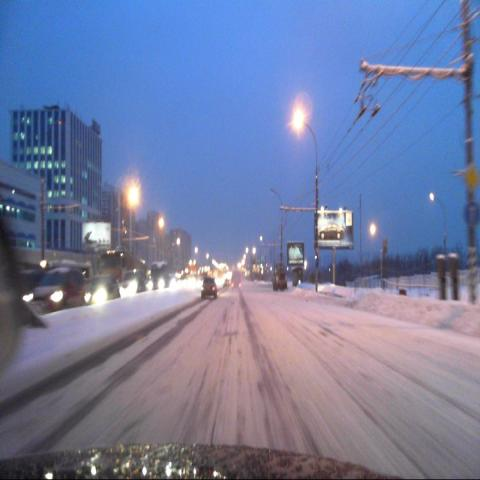2_1: (464, 162, 480, 194)
